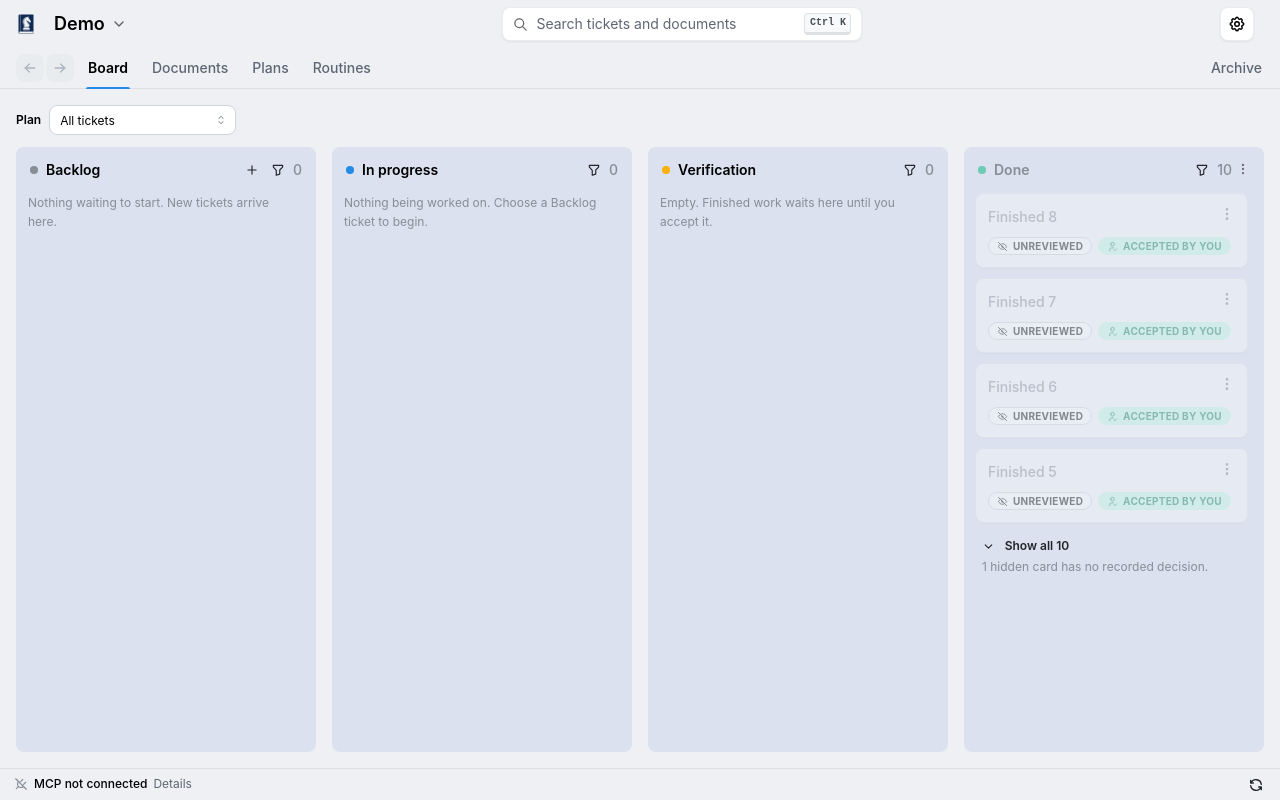
Test: the Done column on the board › says so when a hidden card carries no recorded decision (D-005)
Expected: the text "Finished 8" is shown, top-left (988, 208), bottom-right (1057, 225)
Expected: the text "1 hidden card has no recorded decision." is shown, top-left (982, 559), bottom-right (1208, 574)
And it is still reachable, with its flag intact.
Click the button "Show all 10": [1037, 546] box top-left (976, 535), bottom-right (1248, 557)
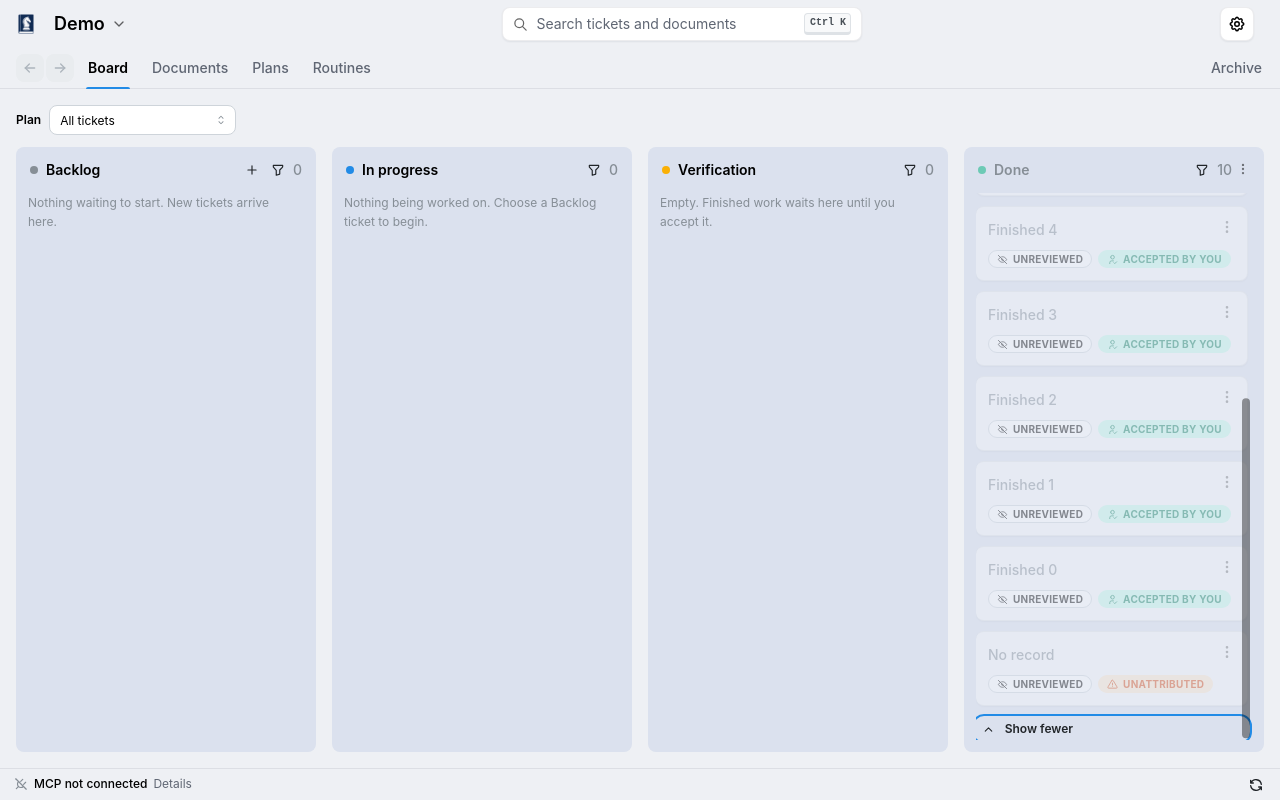
Expected: the text "Unattributed" is shown, top-left (1123, 676), bottom-right (1204, 692)
